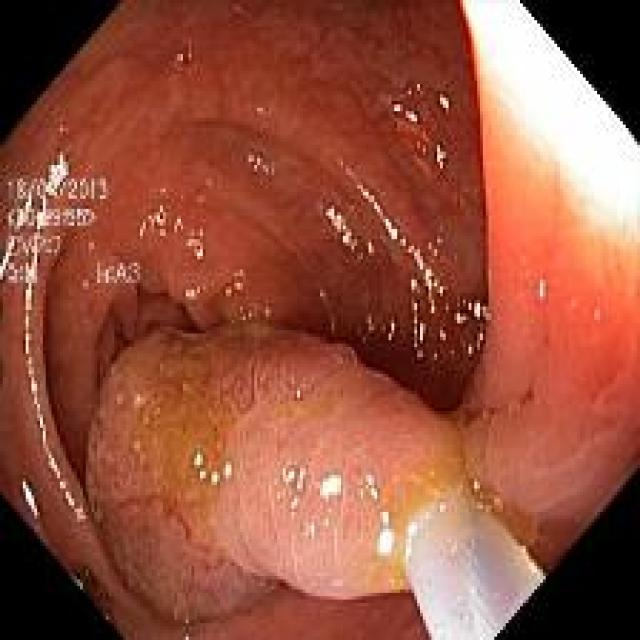Polyps: (86, 321, 471, 623)
